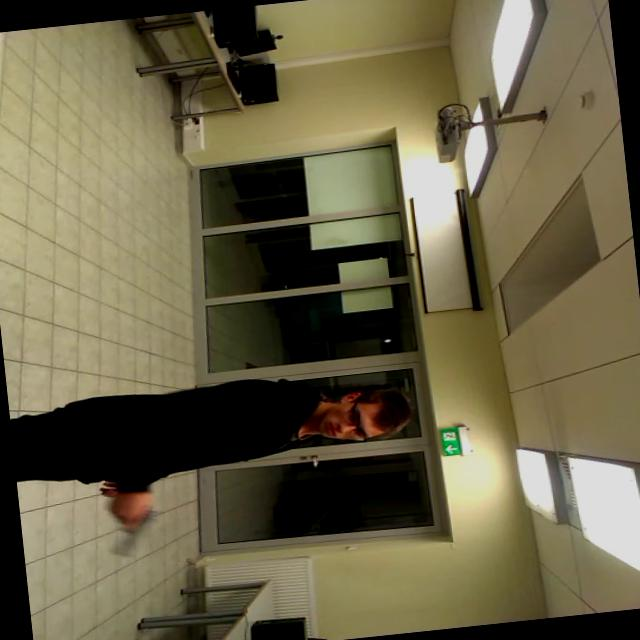handgun: (99, 501, 174, 563)
